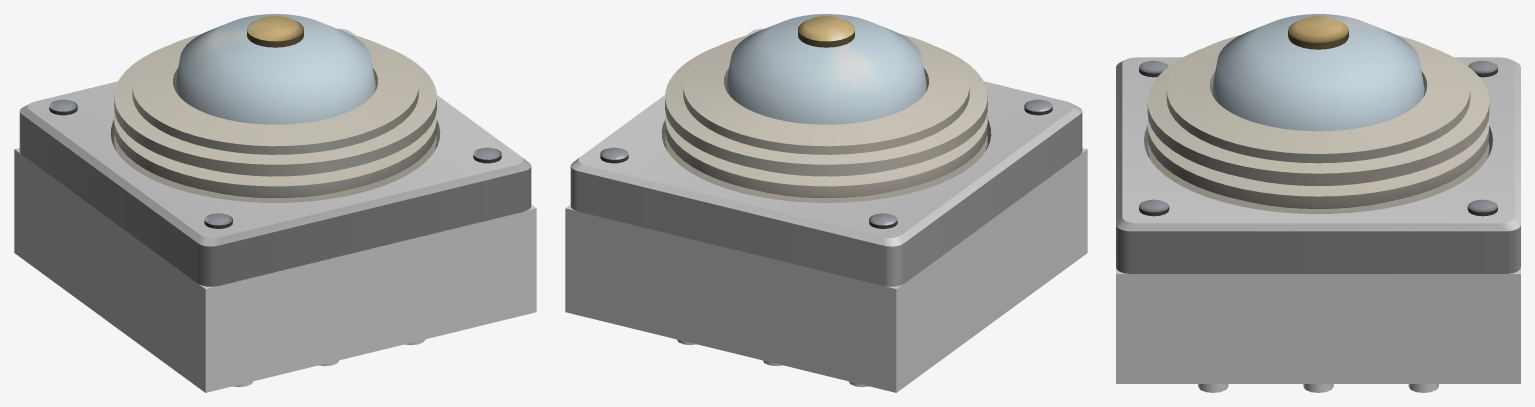
The model's file is part_high_voltage_tube.glb.
3 views of the same model, side by side, from view 1: azimuth 30°, elevation 25°; view 2: azimuth 150°, elevation 25°; view 3: azimuth 270°, elevation 25° (orthographic). The views are drawn at different scales.
Parts seen in each view (by area): view 1: Gehaeuse, Plattform, Korpus, Glas; view 2: Gehaeuse, Plattform, Korpus, Glas; view 3: Gehaeuse, Plattform, Korpus, Glas, Stecker.
Part boxes in pixels (bbox=[...]): Gehaeuse: bbox=[14, 148, 536, 392]; Plattform: bbox=[19, 28, 531, 286]; Korpus: bbox=[49, 16, 501, 228]; Glas: bbox=[175, 14, 375, 124]; Gehaeuse: bbox=[565, 148, 1087, 392]; Plattform: bbox=[570, 28, 1082, 286]; Korpus: bbox=[600, 16, 1052, 228]; Glas: bbox=[726, 14, 926, 124]; Gehaeuse: bbox=[1116, 268, 1520, 383]; Plattform: bbox=[1116, 57, 1520, 274]; Korpus: bbox=[1139, 16, 1497, 216]; Glas: bbox=[1212, 14, 1424, 131]; Stecker: bbox=[1198, 384, 1438, 392].
Size of the model in its own units: 0.8 by 0.69 by 0.8.
